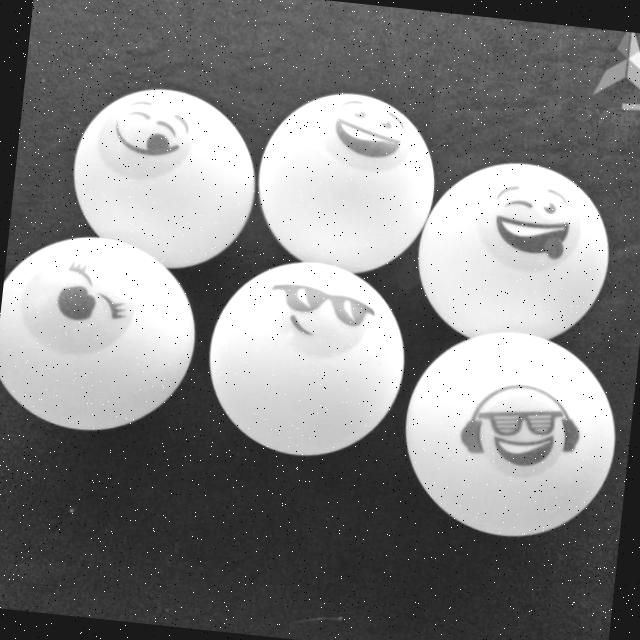ping-pong-ball: (396, 324, 620, 540), (200, 253, 412, 461), (0, 226, 202, 441), (412, 154, 616, 350), (62, 81, 262, 274), (254, 84, 442, 279)
